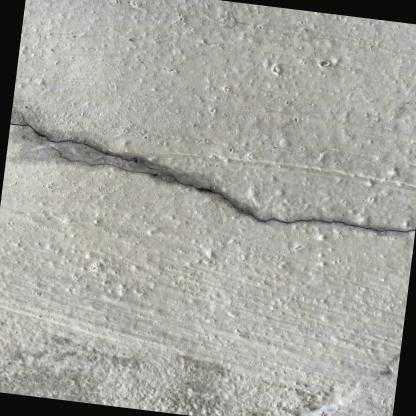crack: (45, 148, 415, 233), (9, 121, 147, 164)
